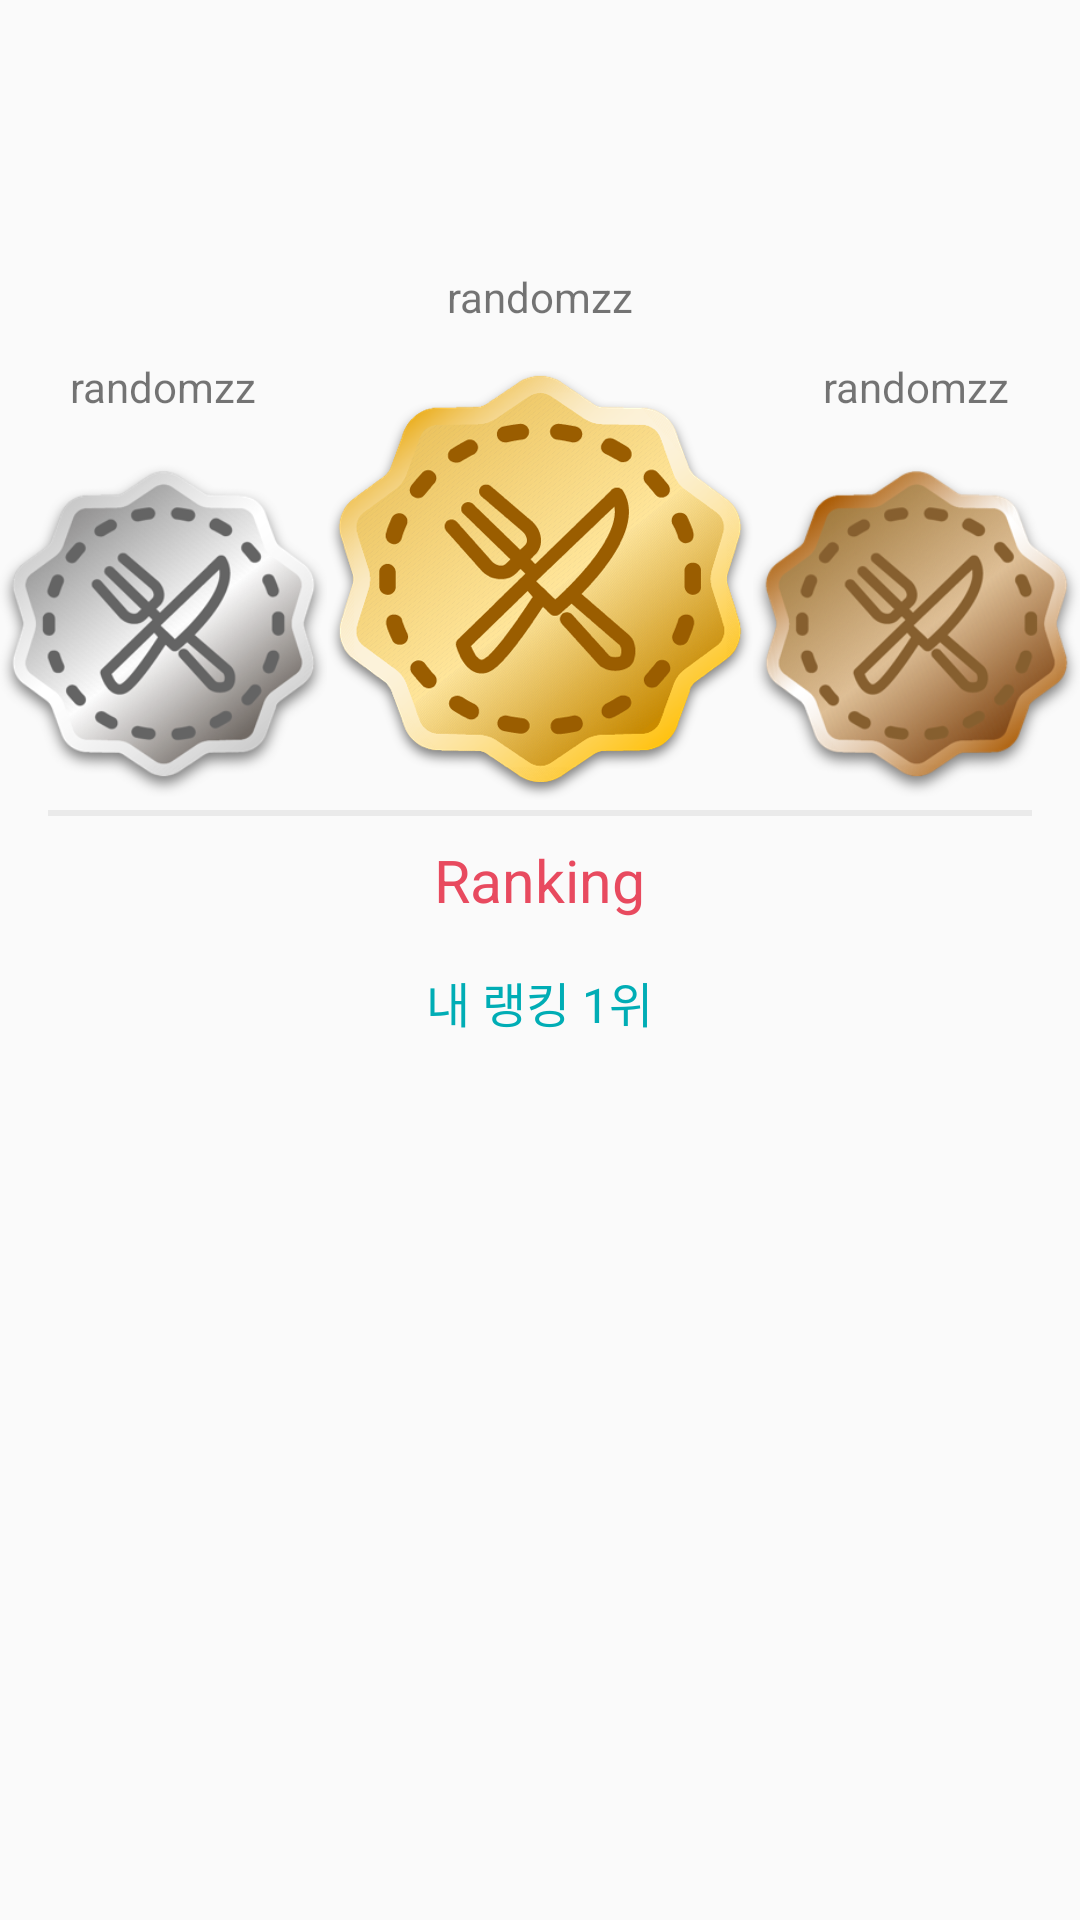

Named icons in this screenshot (1080px x 1920px) and their bounding boxes, (x1, y1, x2, y2):
bronz: (761, 471, 1072, 788)
silver: (8, 471, 319, 788)
